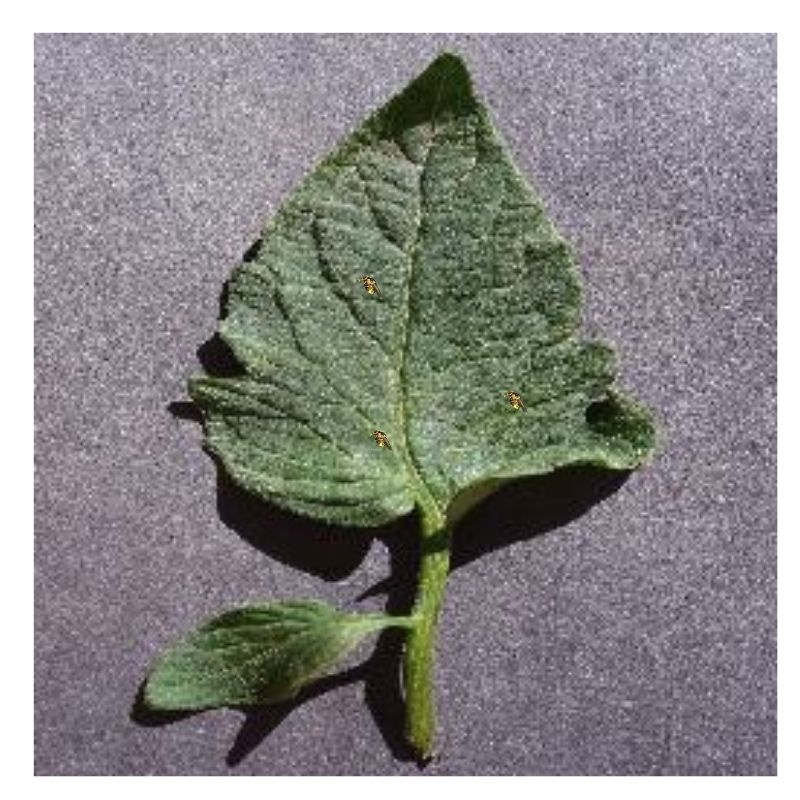liriomyza: (369, 427, 396, 452), (504, 388, 529, 414), (358, 275, 384, 298)
